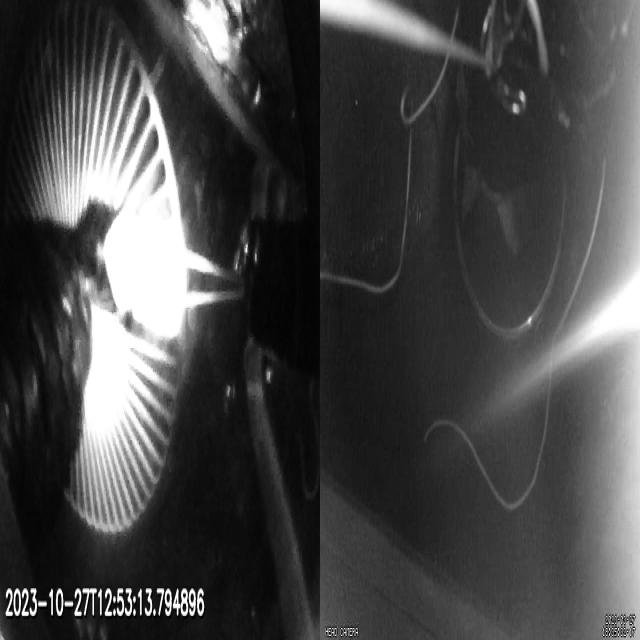head: (110, 194, 188, 342)
